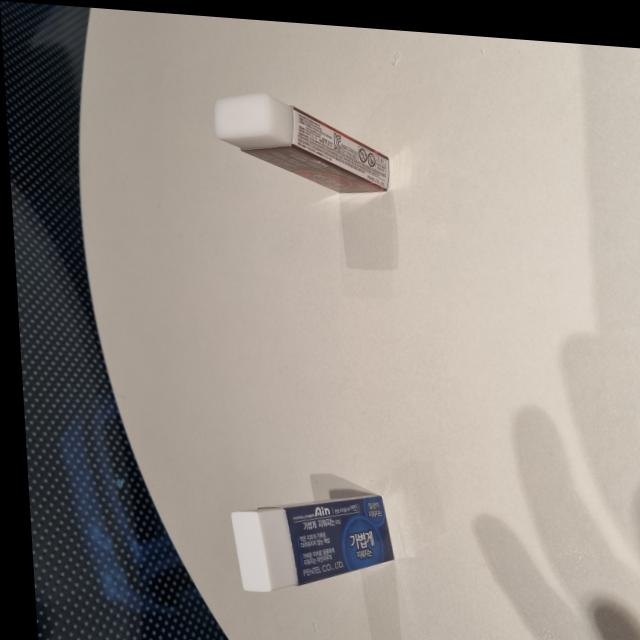blue: (224, 474, 393, 597)
red: (210, 81, 393, 193)
